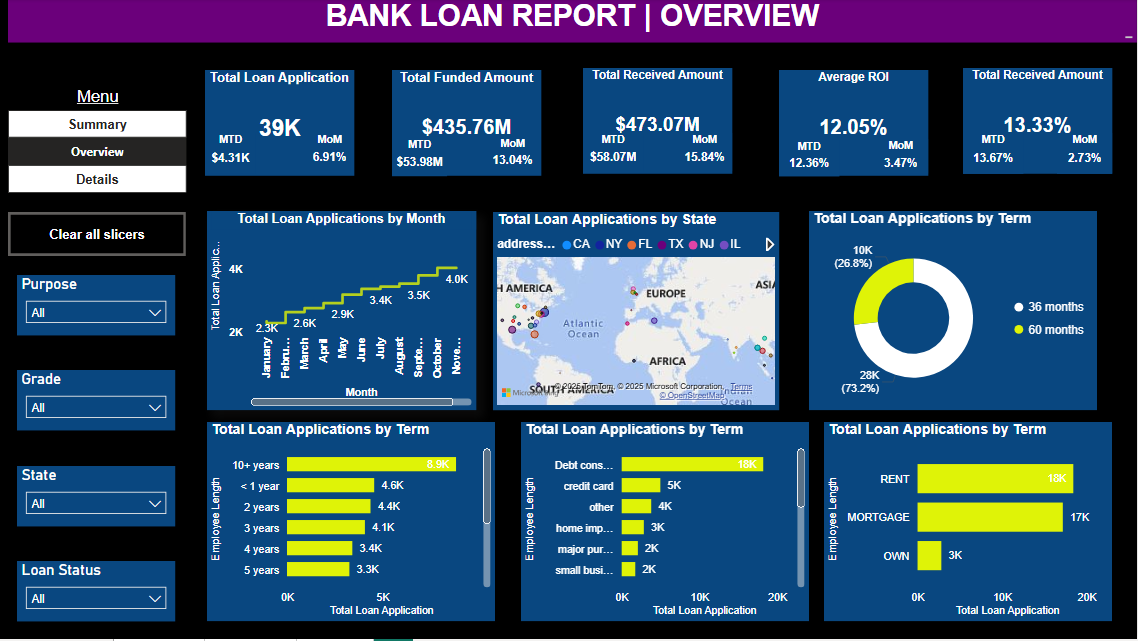

The dashboard page shown, as its layout file describes it:
{"tool":"powerbi","page":{"name":"Overview","canvas":[1280,720],"ordinal":1},"visuals":[{"type":"textbox","title":"BANK LOAN REPORT | OVERVIEW","box":[10.1,0,1269.9,49.3],"z":0},{"type":"card","title":"Total Loan Application","fields":{"Values":["1_Measures.Total Loan Applications"]},"box":[231.8,79.9,167.6,119.2],"z":1000},{"type":"card","title":"MTD","fields":{"Values":["1_Measures.MTD"]},"box":[231.8,150.8,57.4,46.1],"z":2000},{"type":"card","title":"MoM","fields":{"Values":["1_Measures.MoM Loan Application"]},"box":[347.6,150.8,48.4,42.8],"z":3000},{"type":"card","title":"Total Funded Amount","fields":{"Values":["1_Measures.Total Funded Amt"]},"box":[442.1,79.9,167.6,119.2],"z":4000},{"type":"card","title":"MTD","fields":{"Values":["1_Measures.Funded MTD"]},"box":[442.1,156.4,61.9,42.8],"z":5000},{"type":"card","title":"MoM","fields":{"Values":["1_Measures.Mom Funded Application"]},"box":[545.6,155.2,64.1,41.6],"z":6000},{"type":"card","title":"Total Received Amount","fields":{"Values":["1_Measures.Total Amt Received"]},"box":[657,77.6,167.6,119.2],"z":7000},{"type":"card","title":"MTD","fields":{"Values":["1_Measures.Received MTD"]},"box":[657,150.8,67.5,42.8],"z":8000},{"type":"card","title":"MoM","fields":{"Values":["1_Measures.Received MOM"]},"box":[762.8,150.8,61.9,42.8],"z":9000},{"type":"card","title":"Average ROI","fields":{"Values":["1_Measures.Avg ROI"]},"box":[877.5,79.9,167.6,119.2],"z":10000},{"type":"card","title":"Total Received Amount","fields":{"Values":["1_Measures.Avg DTI"]},"box":[1084.5,77.6,167.6,119.2],"z":11000},{"type":"card","title":"MTD","fields":{"Values":["1_Measures.Avg ROI MTD"]},"box":[877.5,158.6,67.5,40.5],"z":12000},{"type":"card","title":"MoM","fields":{"Values":["1_Measures.Avg ROI MOM"]},"box":[983.4,158,62,38.9],"z":13000},{"type":"card","title":"MTD","fields":{"Values":["1_Measures.Avg DTI MTD"]},"box":[1084.5,150.8,67.5,46.1],"z":14000},{"type":"card","title":"MoM","fields":{"Values":["1_Measures.Avg dti MoM"]},"box":[1190.2,150.8,61.9,46.1],"z":15000},{"type":"slicer","title":"Purpose","fields":{"Values":["financial_loan.purpose"]},"box":[20.2,310.5,177.8,67.5],"z":16000},{"type":"slicer","title":"Grade","fields":{"Values":["financial_loan.grade"]},"box":[20.2,417.8,177.8,67.5],"z":17000},{"type":"slicer","title":"State","fields":{"Values":["financial_loan.address_state"]},"box":[20.2,525,177.8,67.5],"z":18000},{"type":"slicer","title":"Loan Status","fields":{"Values":["financial_loan.loan_status"]},"box":[20.2,632.2,177.8,67.5],"z":19000},{"type":"actionButton","box":[10.1,239.6,200.2,49.5],"z":20000},{"type":"lineChart","fields":{"Y":["1_Measures.Total Loan Applications"],"Category":["Date.Date.Variation.Date Hierarchy.Month"]},"box":[234,238.5,302.6,223.9],"z":21000},{"type":"map","title":"Total Loan Applications by State","fields":{"Size":["1_Measures.Total Loan Applications"],"Category":["financial_loan.address_state"],"Series":["financial_loan.address_state"]},"box":[555.8,239.6,321.8,222.8],"z":22000},{"type":"donutChart","title":"Total Loan Applications by Term","fields":{"Y":["1_Measures.Total Loan Applications"],"Category":["financial_loan.term"]},"box":[911.2,238.5,324,223.9],"z":23000},{"type":"barChart","title":"Total Loan Applications by Term","fields":{"Y":["1_Measures.Total Loan Applications"],"Category":["financial_loan.emp_length"]},"box":[234,475.9,324,223.9],"z":24000},{"type":"barChart","title":"Total Loan Applications by Term","fields":{"Y":["1_Measures.Total Loan Applications"],"Category":["financial_loan.purpose"]},"box":[587.2,475.9,324,223.9],"z":25000},{"type":"barChart","title":"Total Loan Applications by Term","fields":{"Y":["1_Measures.Total Loan Applications"],"Category":["financial_loan.home_ownership"]},"box":[928.1,475.9,324,223.9],"z":26000},{"type":"pageNavigator","title":"Menu","box":[9.7,98.5,201.8,119.1],"z":27000}]}

Visuals, with their boxes in screenshot pixels (x1, y1, x2, y2), scaled from the page's 1280x720 canvas onto the 1138x641 screenshot:
"BANK LOAN REPORT | OVERVIEW" textbox: 9,0,1137,44
"Total Loan Application" card: 206,71,355,177
"MTD" card: 206,134,257,175
"MoM" card: 309,134,352,172
"Total Funded Amount" card: 393,71,542,177
"MTD" card: 393,139,448,177
"MoM" card: 485,138,542,175
"Total Received Amount" card: 584,69,733,175
"MTD" card: 584,134,644,172
"MoM" card: 678,134,733,172
"Average ROI" card: 780,71,929,177
"Total Received Amount" card: 964,69,1113,175
"MTD" card: 780,141,840,177
"MoM" card: 874,141,929,175
"MTD" card: 964,134,1024,175
"MoM" card: 1058,134,1113,175
"Purpose" slicer: 18,276,176,337
"Grade" slicer: 18,372,176,432
"State" slicer: 18,467,176,527
"Loan Status" slicer: 18,563,176,623
actionButton: 9,213,187,257
lineChart - 1_Measures.Total Loan Applications x Date.Date.Variation.Date Hierarchy.Month: 208,212,477,412
"Total Loan Applications by State" map: 494,213,780,412
"Total Loan Applications by Term" donutChart: 810,212,1098,412
"Total Loan Applications by Term" barChart: 208,424,496,623
"Total Loan Applications by Term" barChart: 522,424,810,623
"Total Loan Applications by Term" barChart: 825,424,1113,623
"Menu" pageNavigator: 9,88,188,194
